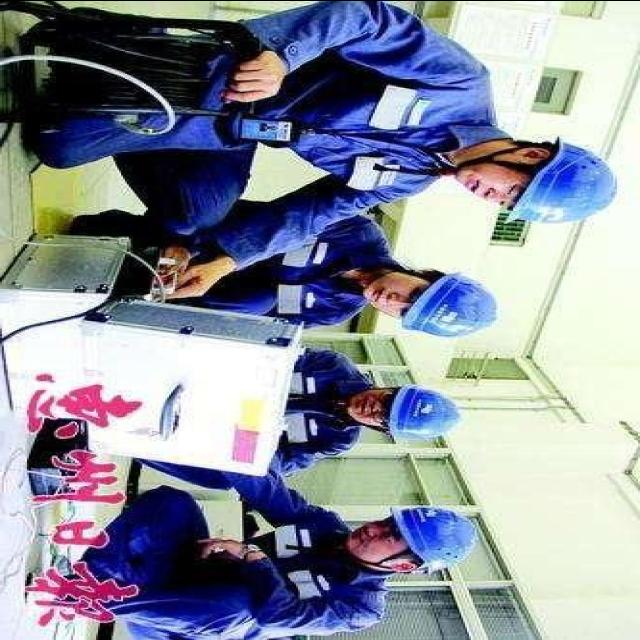helmet: (504, 127, 626, 230), (402, 269, 514, 339), (392, 494, 481, 580), (385, 376, 477, 441)
